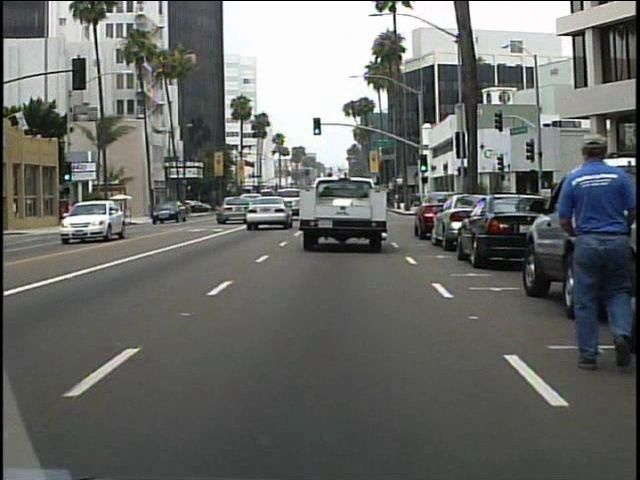person: (548, 130, 630, 378)
